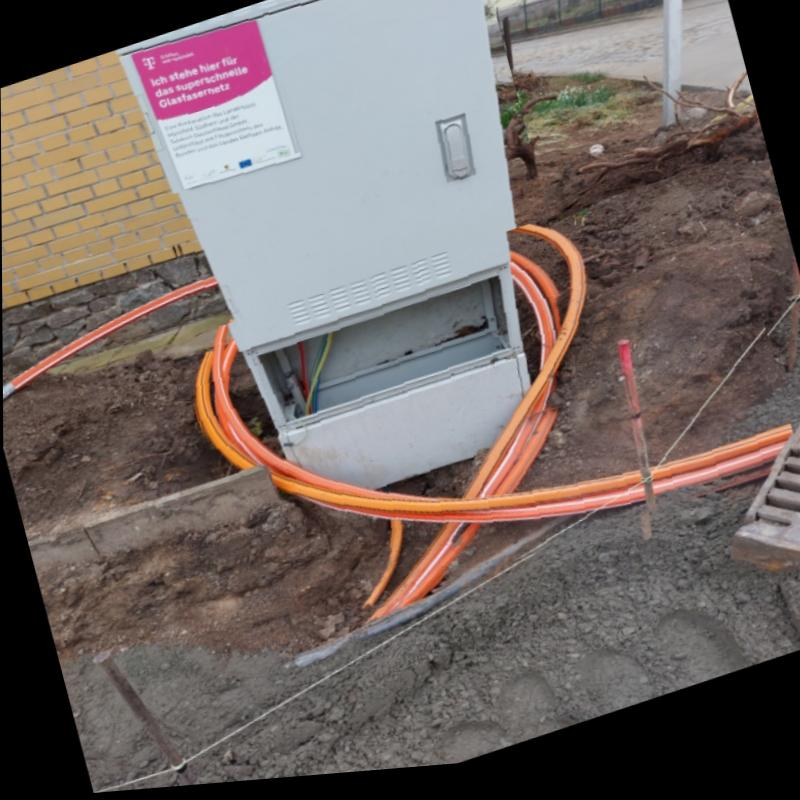NT-Gehause: (117, 0, 530, 447)
Orang-Speednetrohrchen: (194, 233, 792, 614)
Steaker: (129, 20, 295, 194)
